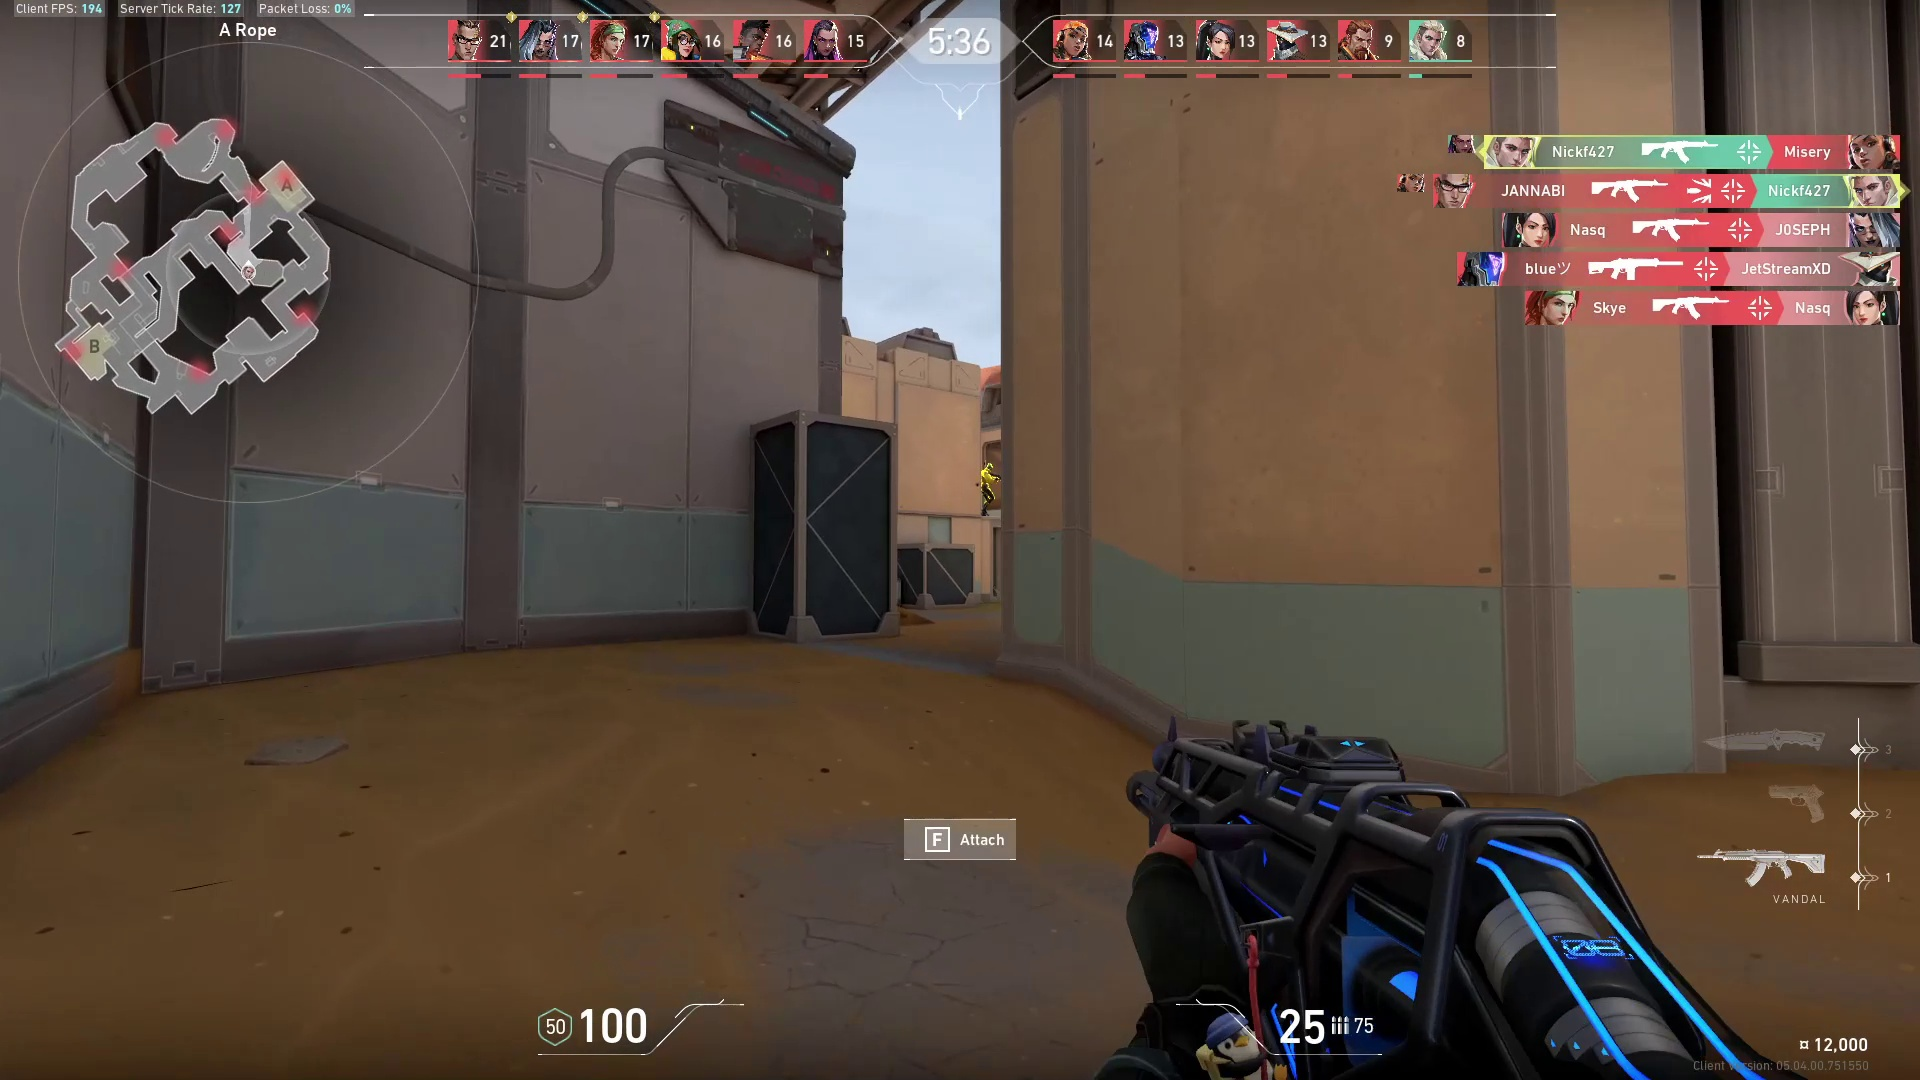enemy_body: (980, 471, 1000, 517)
enemy_head: (982, 460, 996, 471)
